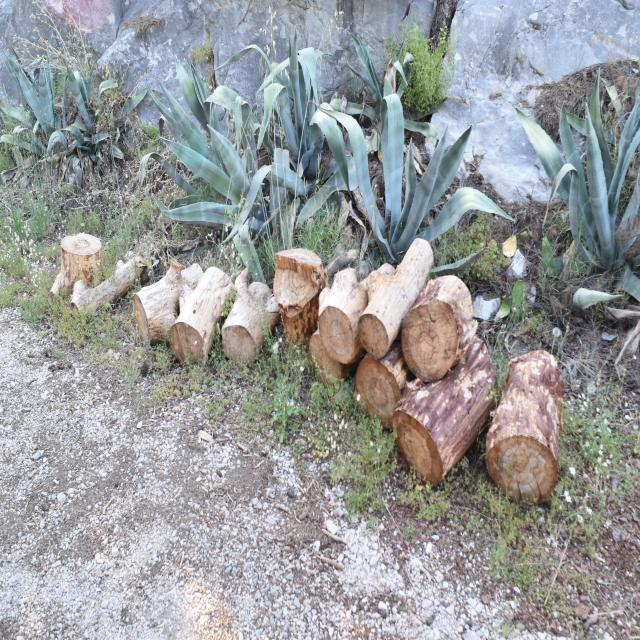lixo domiciliar: (473, 294, 500, 320), (507, 248, 528, 280), (502, 235, 517, 258), (600, 331, 615, 341)
restos de madeira: (387, 281, 477, 478), (486, 352, 565, 504), (357, 239, 432, 359), (133, 258, 204, 345), (170, 267, 232, 365), (215, 282, 279, 371), (354, 347, 416, 429), (272, 247, 322, 341), (317, 268, 367, 361), (48, 237, 108, 302), (70, 261, 138, 318), (114, 256, 149, 298)
